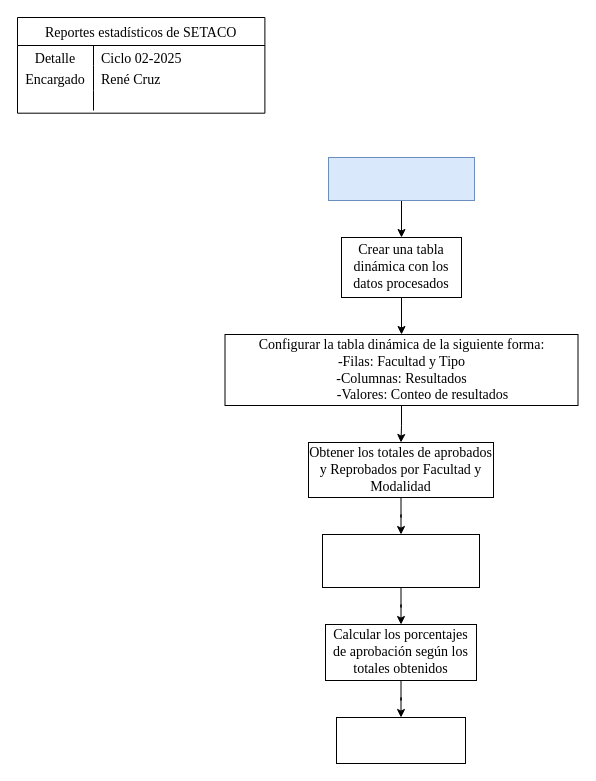
The diagram is 596 pixels wide and 781 high, and some of its shapes have lost their labels. The shapes that lost their labels are listed below. From the top down, each one's centre as x and y in pixels, then its label:
At (x=401, y=178): "Pruebas de salida - Análisis de Resultados".
At (x=401, y=561): "Consolidar los datos en un archivo resumen previamente definido".
At (x=401, y=740): "Guardar y validar los resultados finales".
